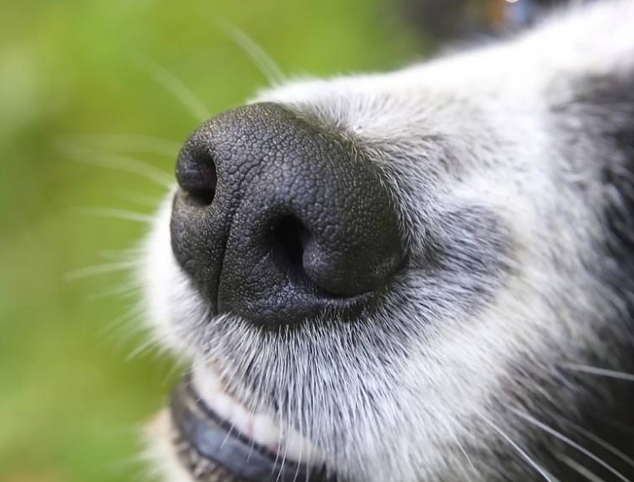nose: (164, 97, 424, 337)
